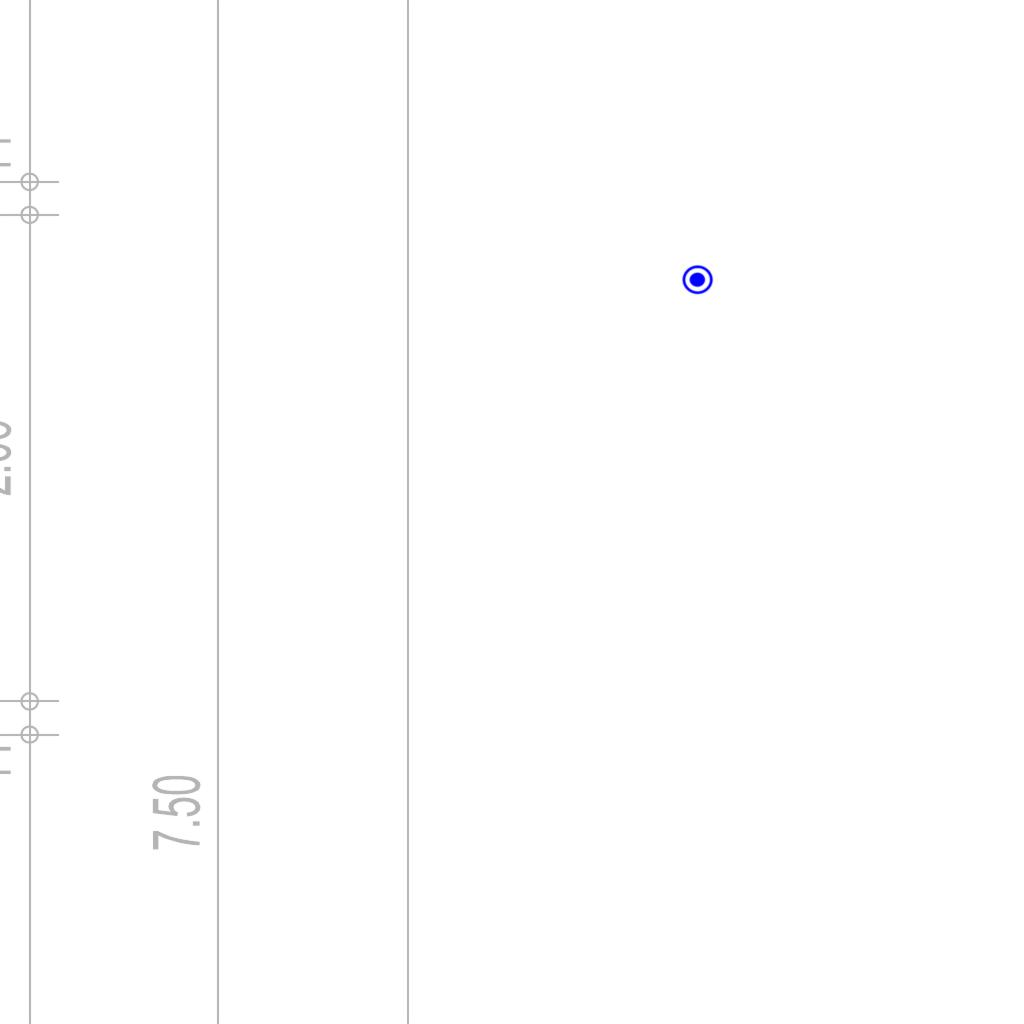Taster: (681, 262, 714, 295)
